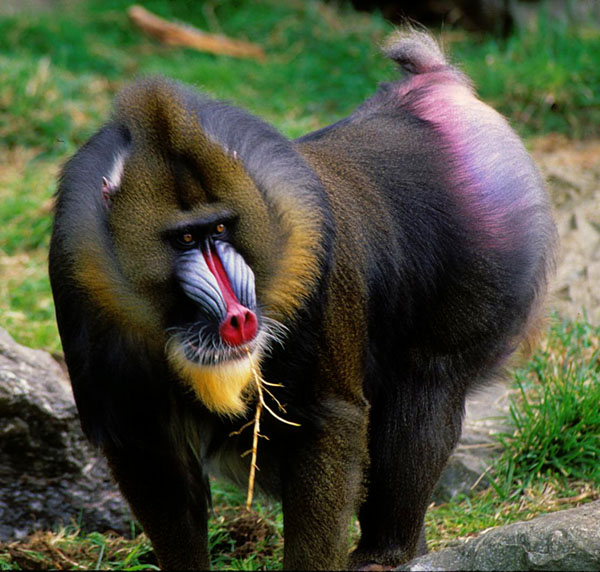Mandrill: (41, 23, 559, 483)
